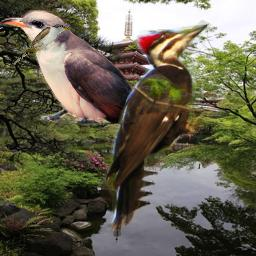Cuckoo: (0, 10, 158, 132), (11, 23, 71, 66)
Woodpecker: (103, 20, 216, 232)
